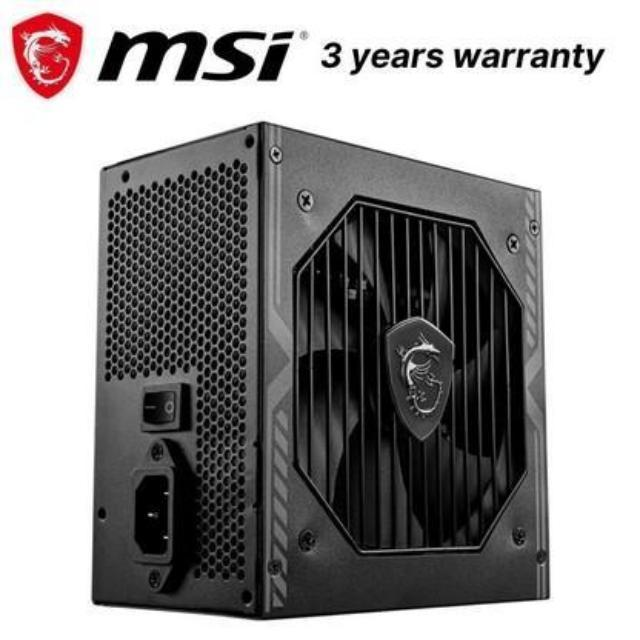PSU: (72, 103, 554, 632)
